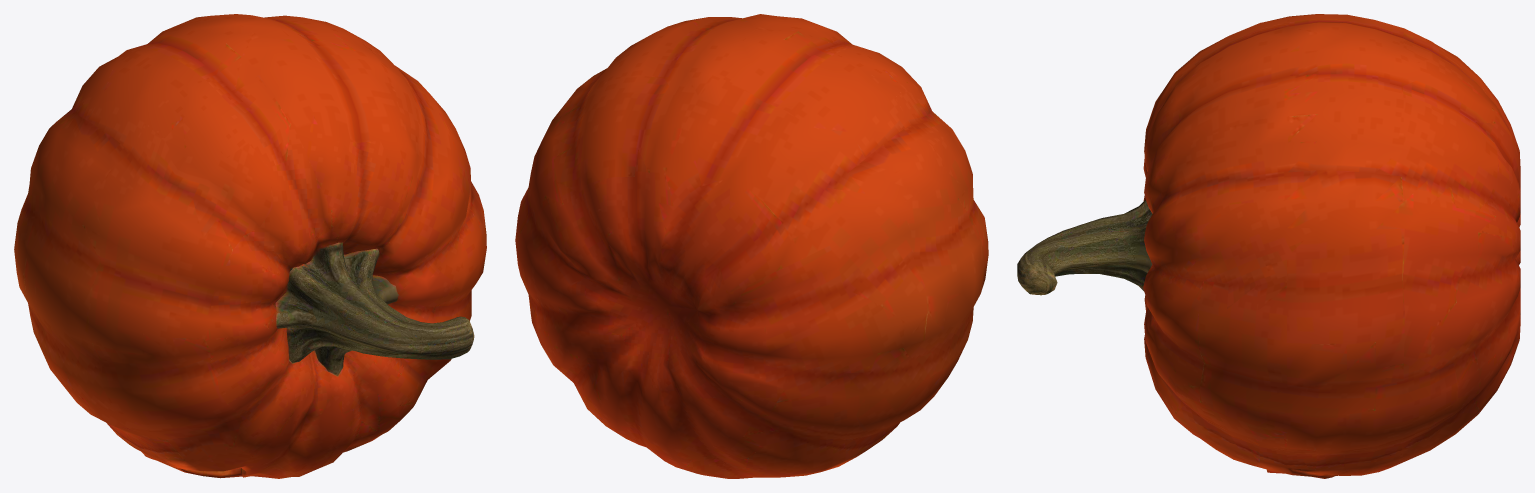
The model's file is float-ring.glb.
3 views of the same model, side by side, from view 1: azimuth 30°, elevation 25°; view 2: azimuth 150°, elevation 25°; view 3: azimuth 270°, elevation 25° (orthographic).
Visible parts, largest first — view 1: Mesh_0; view 2: Mesh_0; view 3: Mesh_0.
Part boxes in pixels (x1,y1,x2,y2): Mesh_0: [14, 14, 486, 478]; Mesh_0: [515, 14, 988, 478]; Mesh_0: [1017, 14, 1520, 478].
Size of the model in its own units: 0.8005 by 0.7972 by 0.8539.
1 material, 1 textured.
